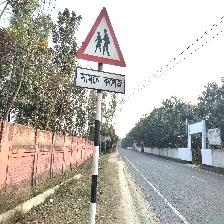College-in-front: (77, 0, 146, 97)
